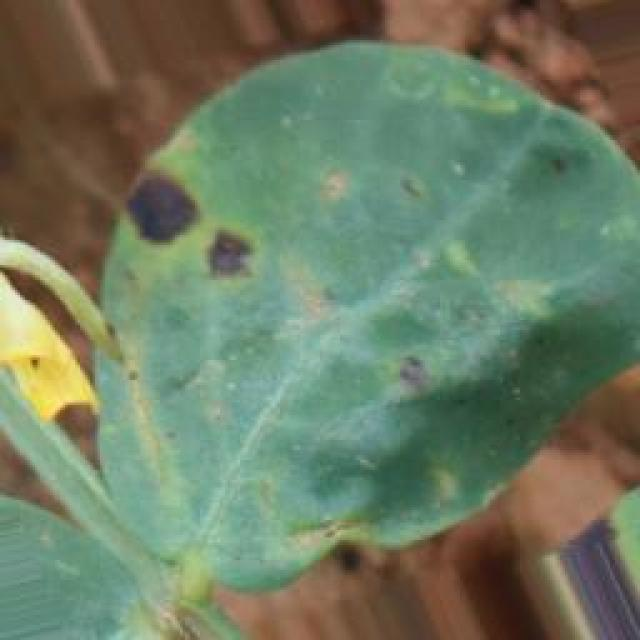Yellowish: (53, 8, 588, 556)
